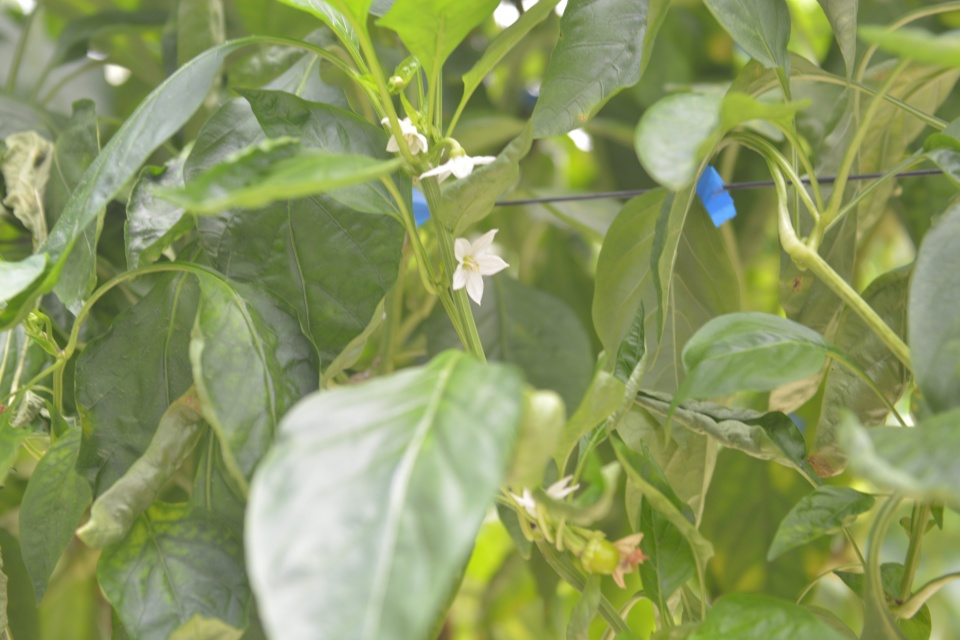flower: (448, 226, 511, 308), (505, 470, 581, 518), (378, 111, 431, 158), (416, 152, 499, 182)
